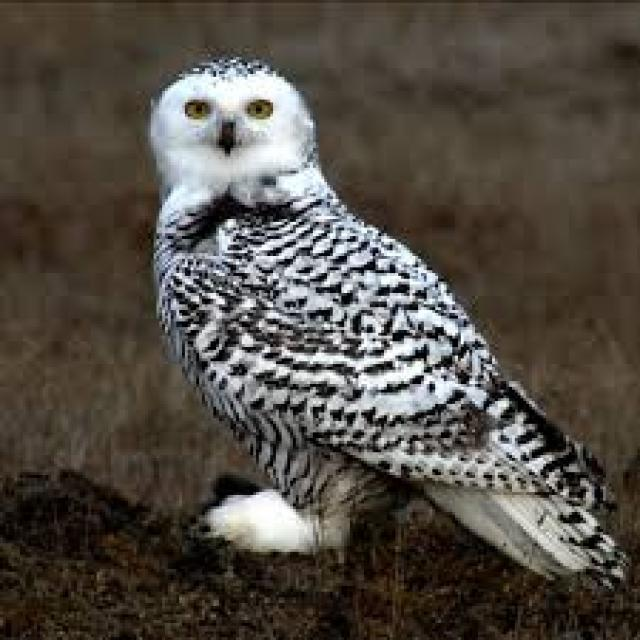snowy owl: (94, 9, 628, 598)
